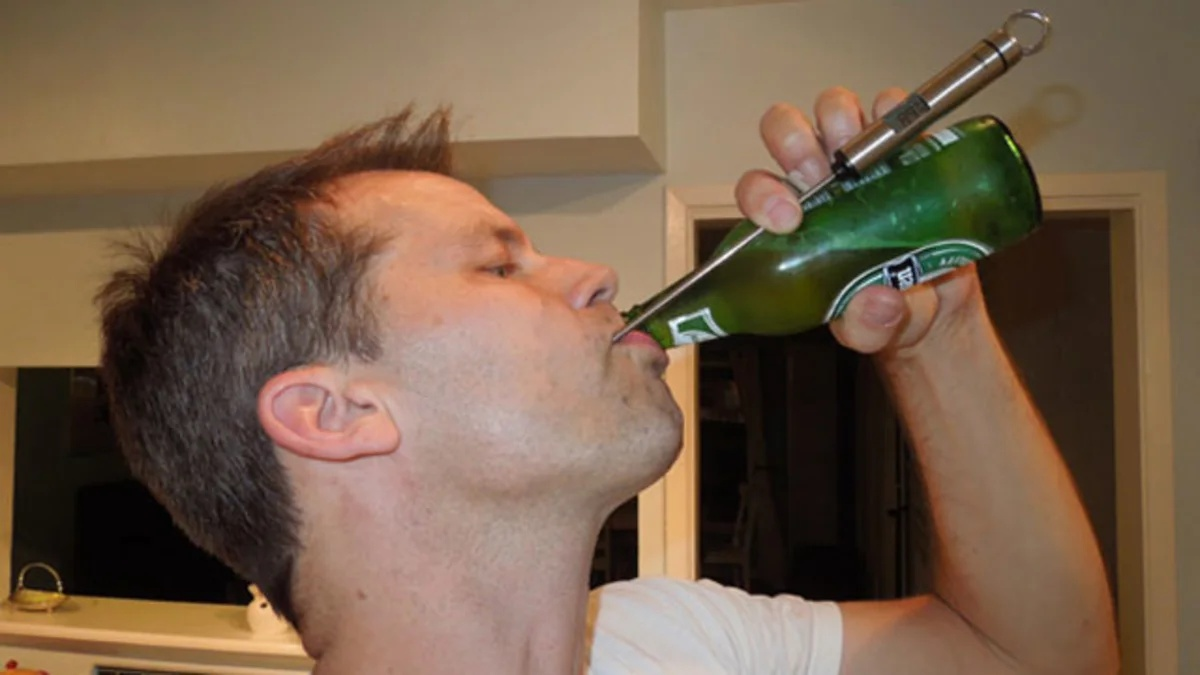beerBottle: (629, 118, 1051, 352)
